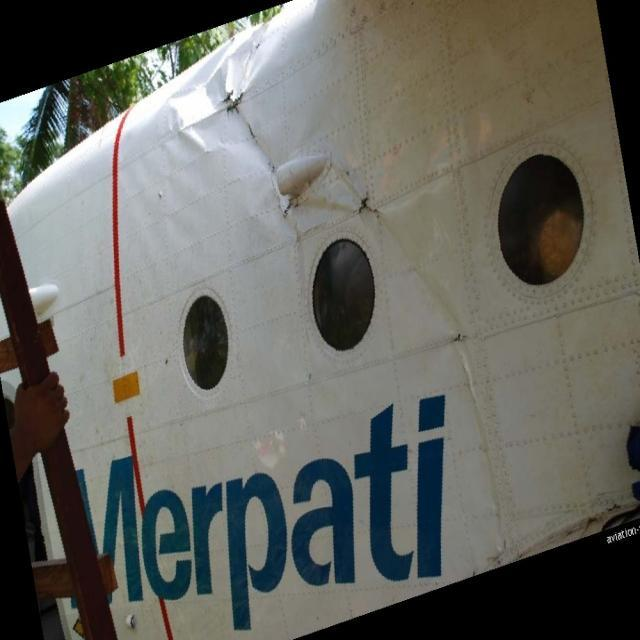crack: (222, 89, 261, 151), (354, 190, 384, 224)
